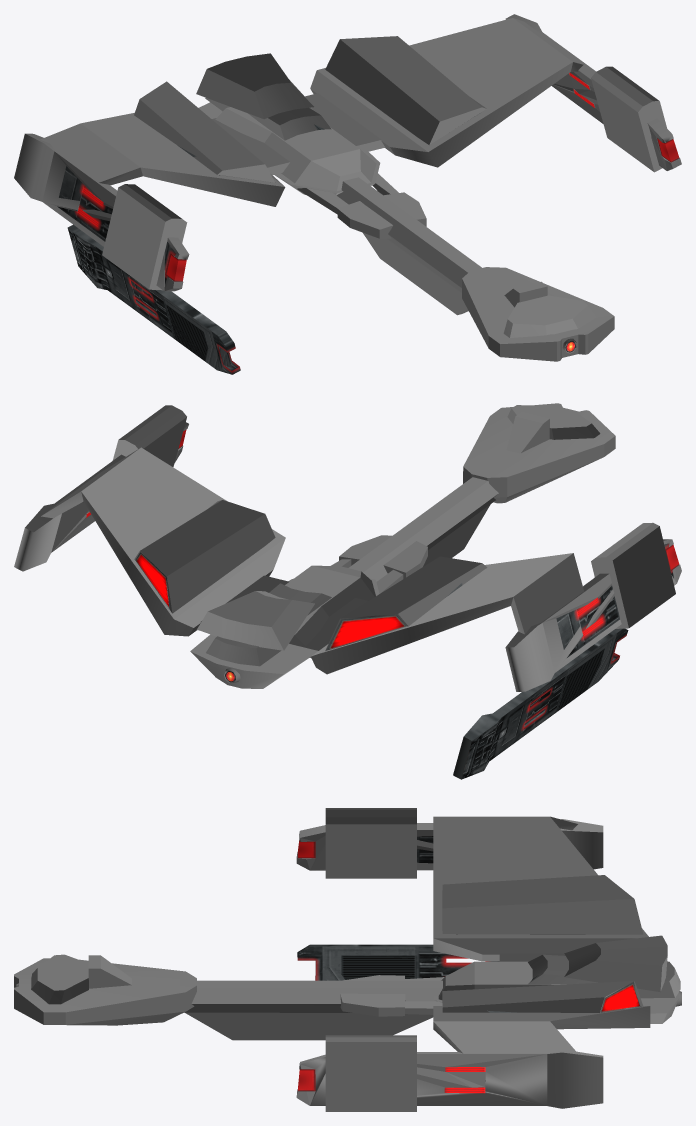
The model's file is Bloodwing.FBX.
The picture shows the model from 3 angles, top to bottom: view 1: azimuth 30°, elevation 25°; view 2: azimuth 150°, elevation 25°; view 3: azimuth 270°, elevation 25°; orthographic projection. The views are drawn at different scales.
Visible parts, largest first — view 1: Effect, Object009, Object08, L1; view 2: Effect, Object009, L2, Object08, L1; view 3: Effect, Object009, L1, L2.
Boxes of the visible parts, x1=… form: Effect: x1=14, y1=14, x2=681, y2=361; Object009: x1=67, y1=224, x2=240, y2=374; Object08: x1=57, y1=166, x2=175, y2=283; L1: x1=77, y1=73, x2=679, y2=281; Effect: x1=14, y1=403, x2=681, y2=691; Object009: x1=453, y1=628, x2=628, y2=779; L2: x1=136, y1=554, x2=403, y2=647; Object08: x1=556, y1=543, x2=673, y2=657; L1: x1=86, y1=429, x2=679, y2=637; Effect: x1=14, y1=808, x2=681, y2=1111; Object009: x1=297, y1=944, x2=499, y2=980; L1: x1=297, y1=840, x2=485, y2=1093; L2: x1=602, y1=985, x2=639, y2=1011.
Bounding box in the file's own units: 101 × 32.07 × 114.
Materials: 5 (4 with a texture image).
